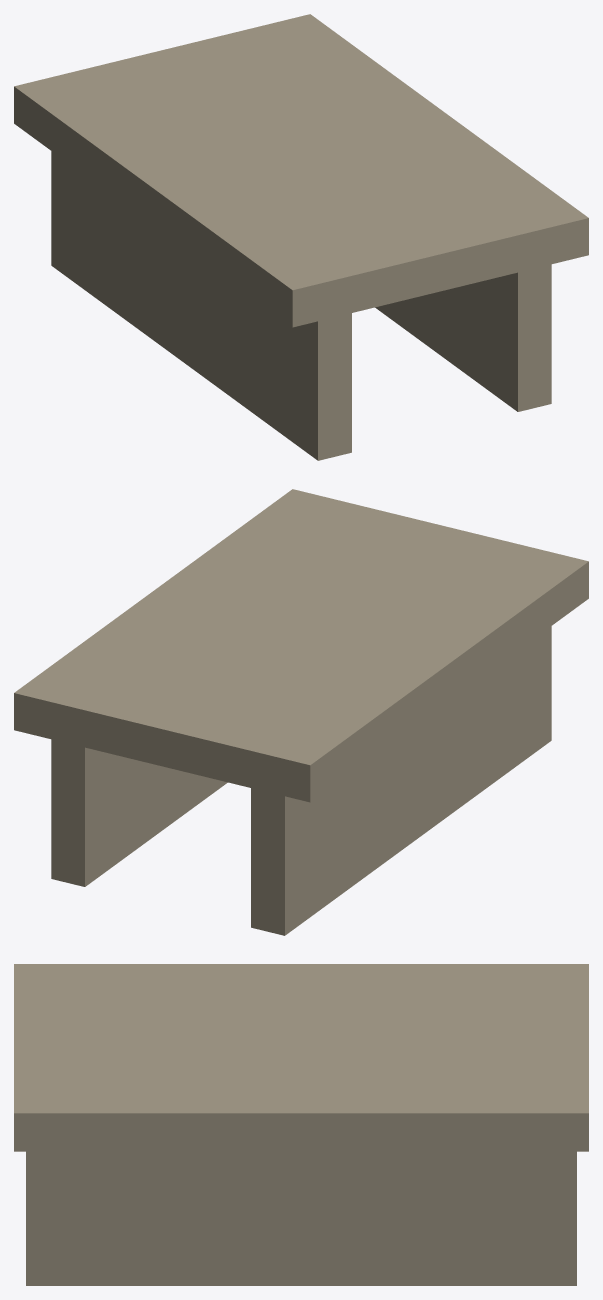
The model's file is 094_drain_culvert.glb.
3 renders of one model, top to bottom at view 1: azimuth 30°, elevation 25°; view 2: azimuth 150°, elevation 25°; view 3: azimuth 270°, elevation 25°, orthographic. The views are drawn at different scales.
Parts seen in each view (by area): view 1: Drain culvert; view 2: Drain culvert; view 3: Drain culvert.
Boxes of the visible parts, left/top/right/bottom form: Drain culvert: left=14, top=14, right=588, bottom=460; Drain culvert: left=14, top=489, right=588, bottom=935; Drain culvert: left=14, top=964, right=588, bottom=1285.
Size of the model in its own units: 1.75 by 1.03 by 2.85.
